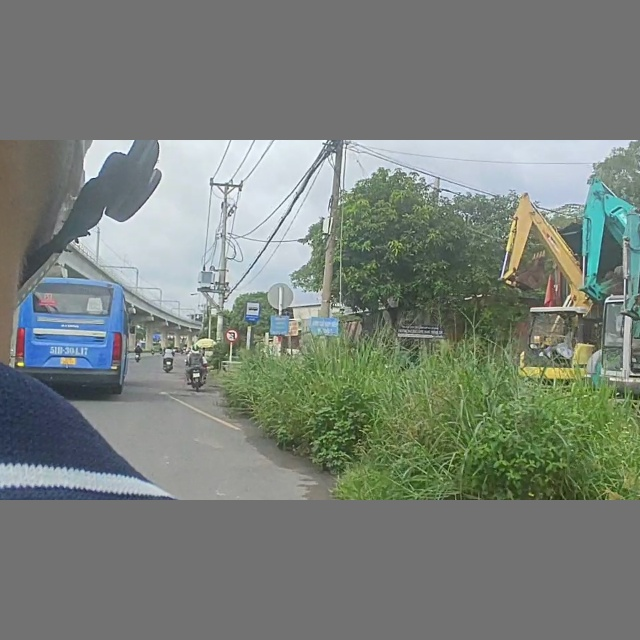I.434a: (245, 301, 262, 321)
P.123a: (226, 329, 239, 342)
